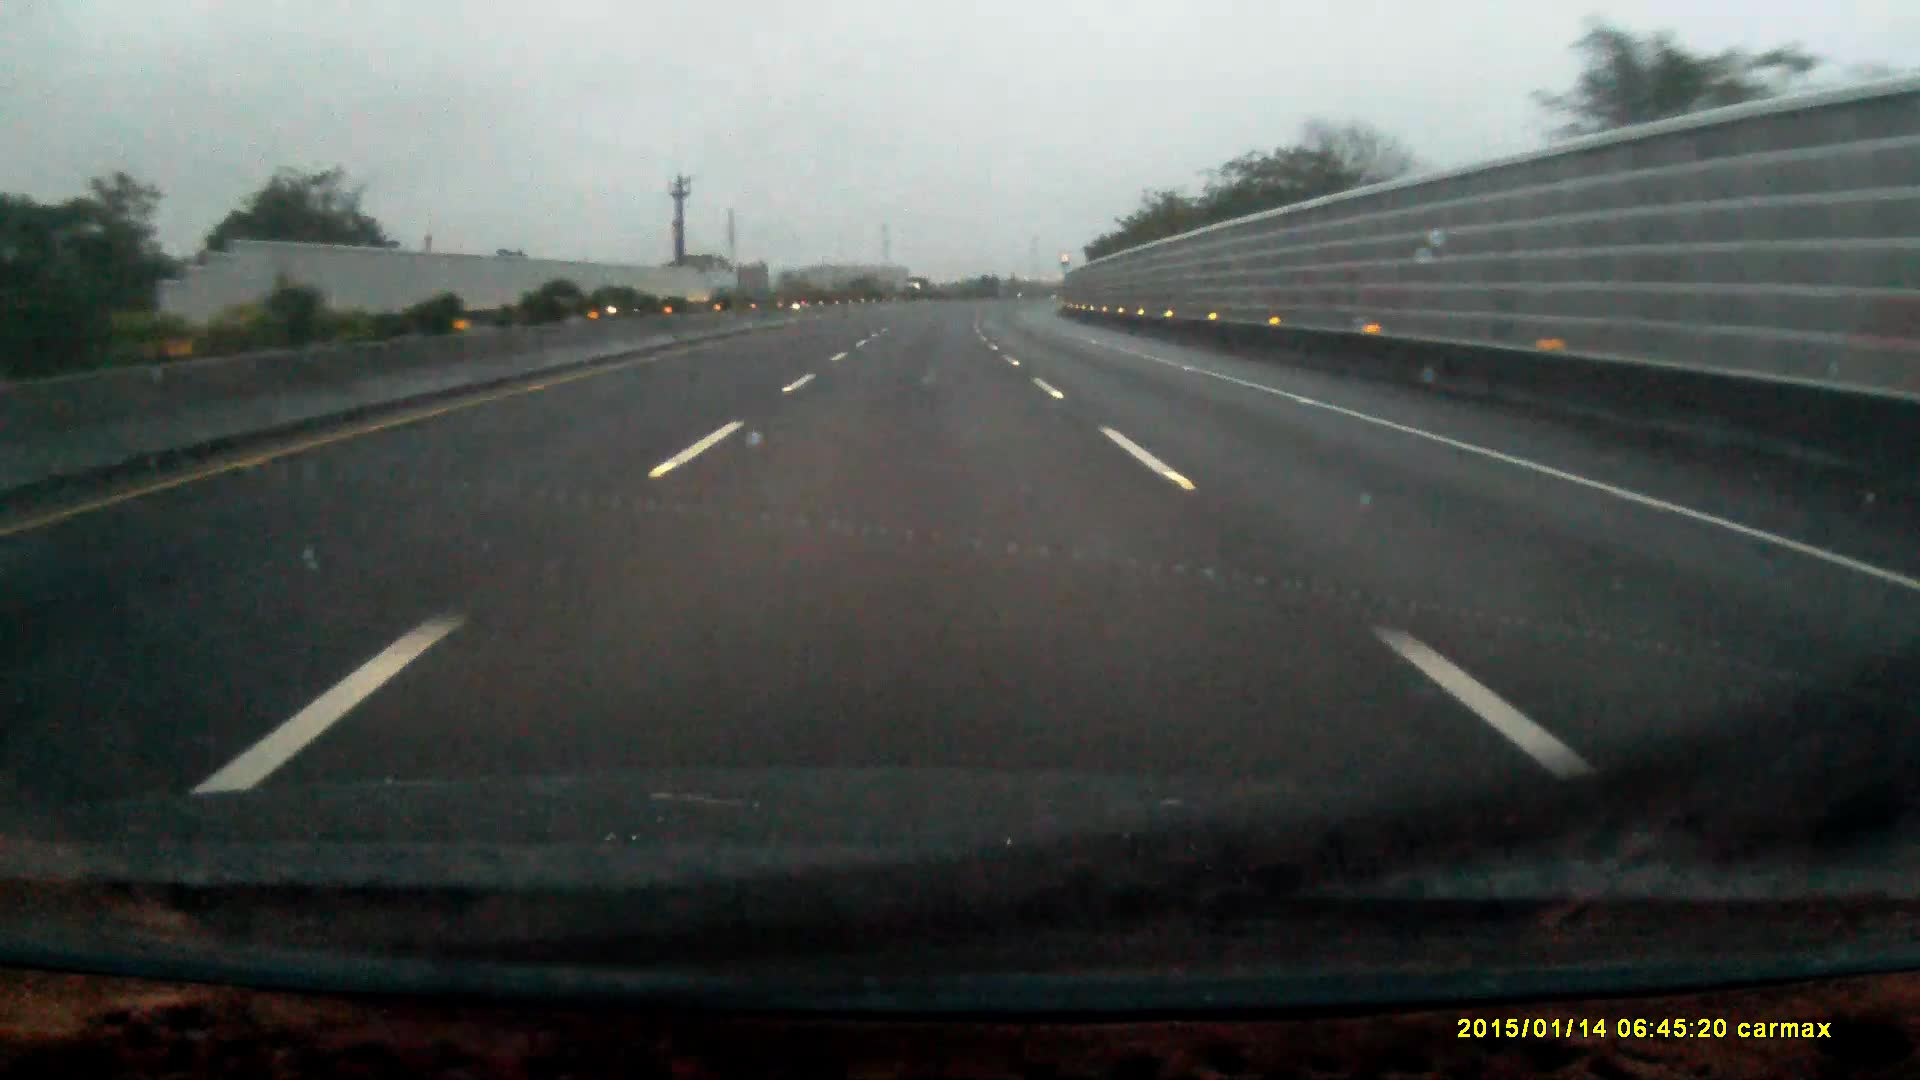vehicle: (905, 280, 928, 303)
